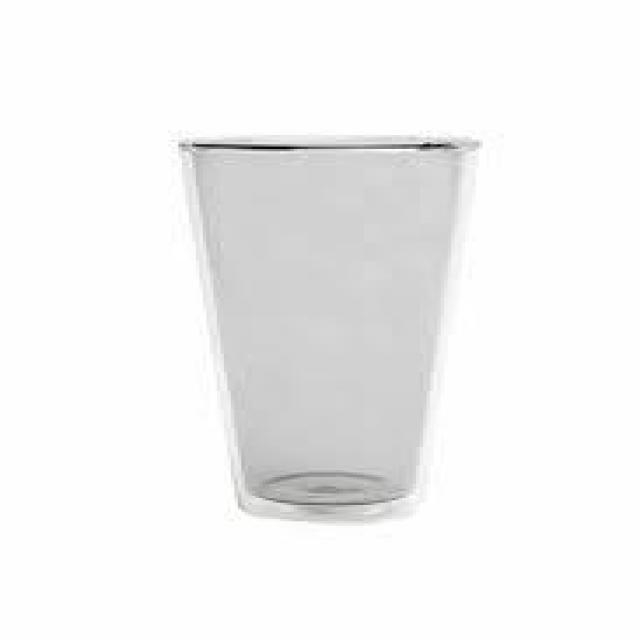glass: (172, 132, 484, 522)
